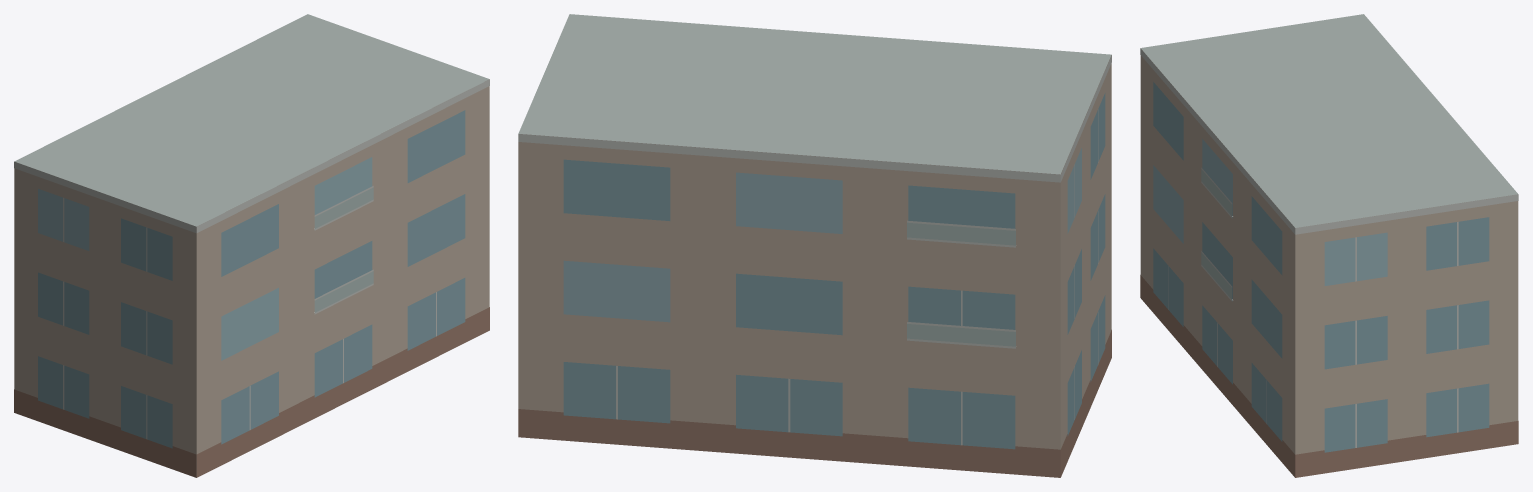
File: survey-upis-32702167.glb
3 renders of one model, left to right at view 1: azimuth 30°, elevation 25°; view 2: azimuth 150°, elevation 25°; view 3: azimuth 270°, elevation 25°, orthographic. The views are drawn at different scales.
Parts seen in each view (by area): view 1: survey-upis-32702167.tmp; view 2: survey-upis-32702167.tmp; view 3: survey-upis-32702167.tmp.
Part boxes in pixels (left/top/right/bottom): survey-upis-32702167.tmp: left=14, top=14, right=489, bottom=477; survey-upis-32702167.tmp: left=518, top=14, right=1111, bottom=477; survey-upis-32702167.tmp: left=1140, top=14, right=1518, bottom=477.
Size of the model in its own units: 16.82 by 9.15 by 12.56.
